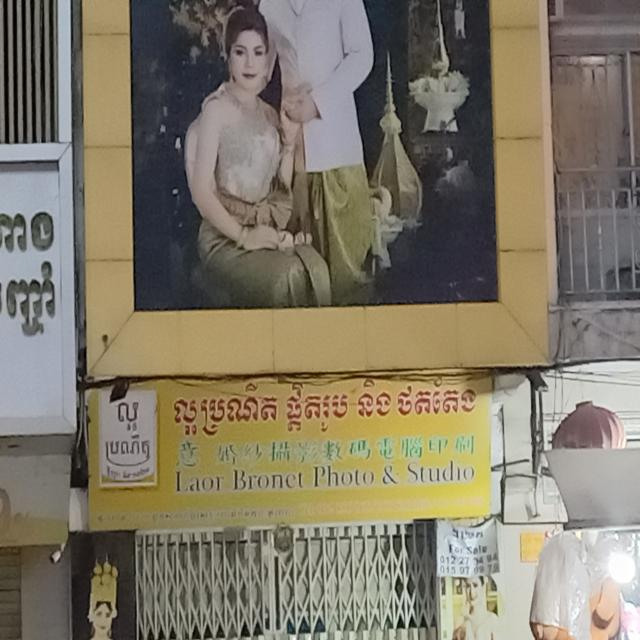1: (169, 371, 491, 445)
Yolov11kh: (4, 261, 63, 337), (101, 433, 155, 468), (27, 206, 57, 253), (112, 396, 146, 429)
